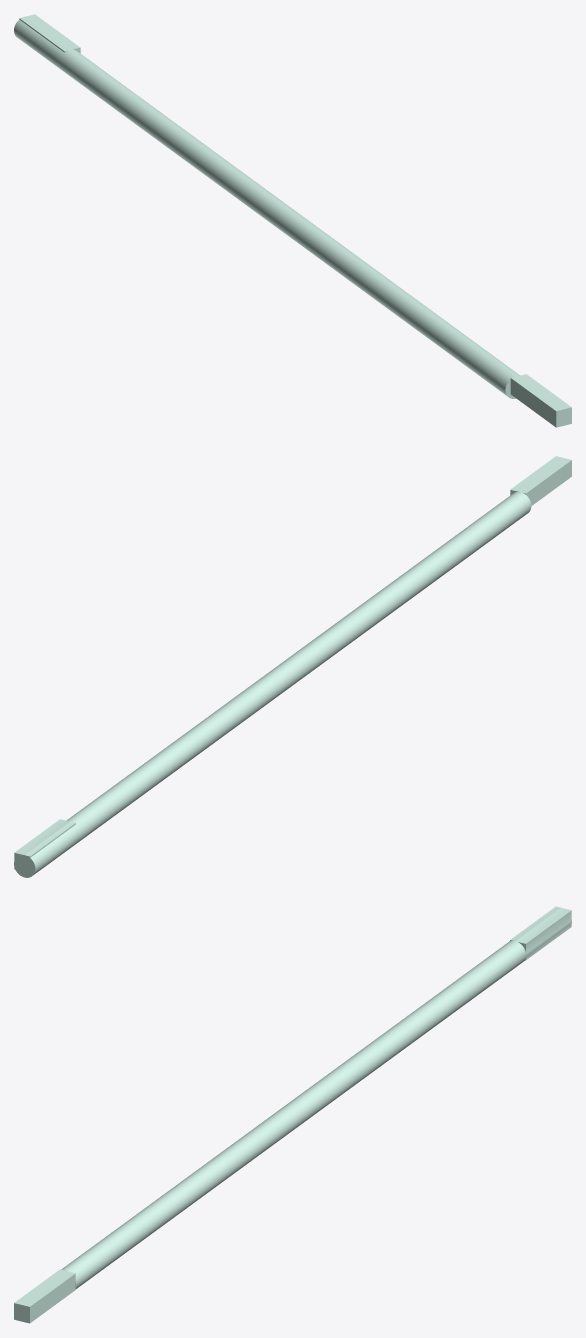
The picture shows the model from 3 angles, top to bottom: view 1: azimuth 30°, elevation 25°; view 2: azimuth 150°, elevation 25°; view 3: azimuth 330°, elevation 25°; orthographic projection.
Parts seen in each view (by area): view 1: Renderer Node; view 2: Renderer Node; view 3: Renderer Node.
Boxes of the visible parts, <box> form: Renderer Node: <box>14,14,571,427</box>; Renderer Node: <box>14,456,571,877</box>; Renderer Node: <box>14,906,571,1323</box>.
Size of the model in its own units: 0.0316 by 0.0316 by 1.38.
